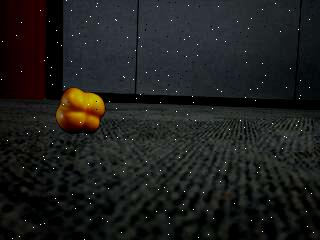Capsicum: (55, 88, 105, 135)
